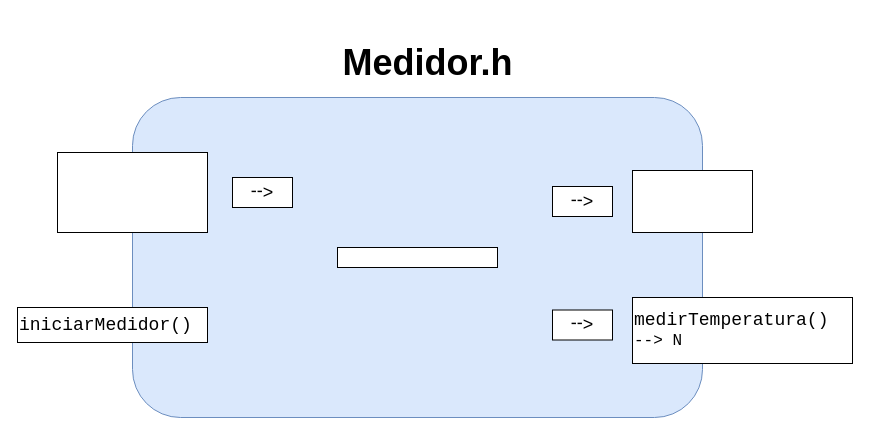
Some shapes in this 870 by 435 pixel diagram are drawn without their labels. The centre of each missing label's shape, as x and y in pixels:
beaconUUID:[Z]: the point at 417,257
Medidor--> constructor -->: the point at 132,192
medirC02() --> N: the point at 692,201
